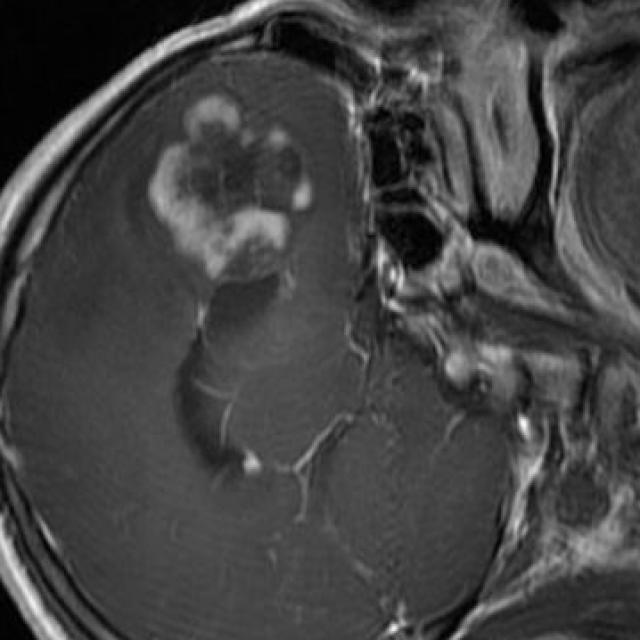glioma: (150, 96, 314, 349)
